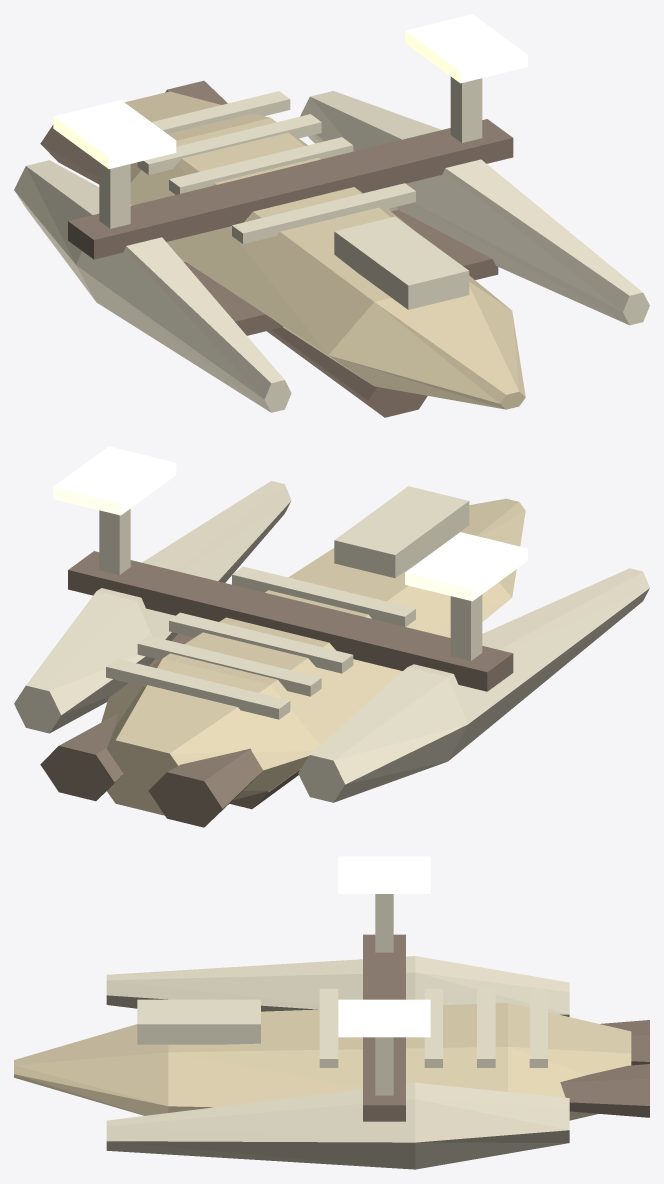
3 renders of one model, top to bottom at view 1: azimuth 30°, elevation 25°; view 2: azimuth 150°, elevation 25°; view 3: azimuth 270°, elevation 25°, orthographic. The views are drawn at different scales.
Bounding box in the file's own units: 2.88 × 1.62 × 4.53.
